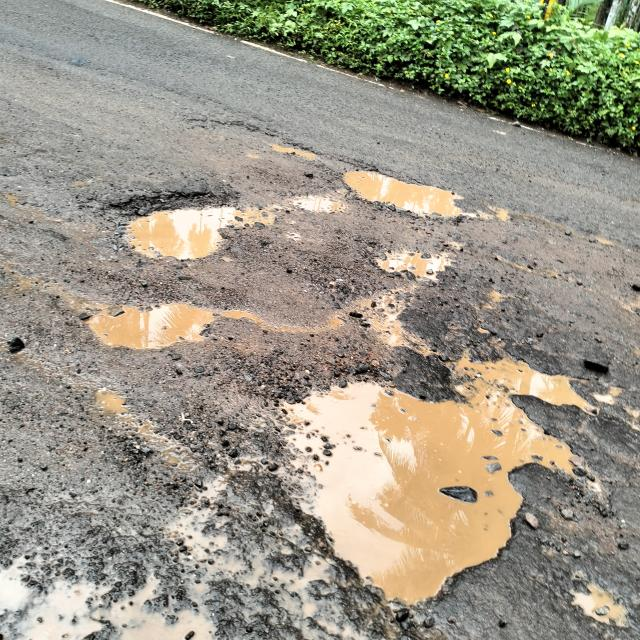pothole: (252, 331, 639, 637), (268, 376, 451, 618), (0, 499, 276, 640), (440, 336, 623, 504), (35, 258, 278, 361), (73, 186, 291, 265), (290, 287, 458, 386), (320, 165, 532, 229), (344, 236, 486, 306), (423, 481, 522, 567), (552, 547, 640, 637), (228, 120, 339, 181), (83, 377, 153, 432), (504, 251, 576, 287), (588, 223, 630, 254), (604, 286, 640, 321)
